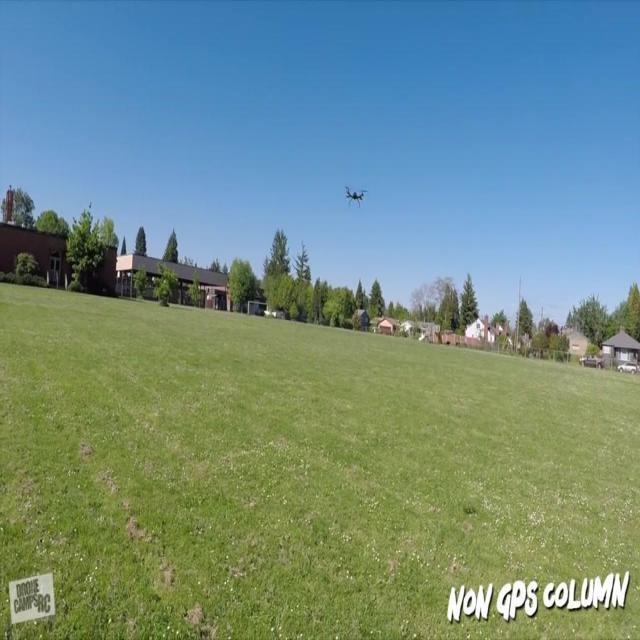UAV: (345, 185, 367, 208)
